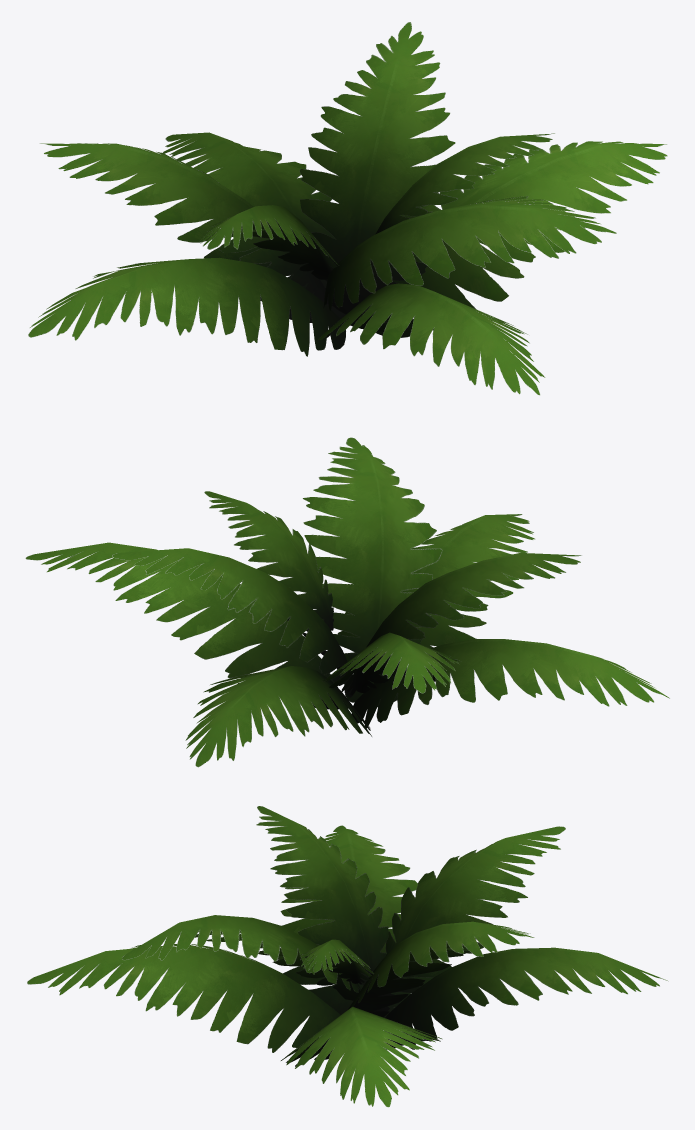
File: Fern_1.glb
The picture shows the model from 3 angles, top to bottom: view 1: azimuth 30°, elevation 25°; view 2: azimuth 150°, elevation 25°; view 3: azimuth 270°, elevation 25°; orthographic projection. The views are drawn at different scales.
Parts seen in each view (by area): view 1: Fern_1; view 2: Fern_1; view 3: Fern_1.
Boxes of the visible parts, box(x1,y1,x2,y2) form: Fern_1: box(28, 22, 667, 395); Fern_1: box(25, 437, 669, 767); Fern_1: box(27, 806, 668, 1107).
Bounding box in the file's own units: 2.83 × 0.8402 × 2.65.
Materials: 1 (1 with a texture image).
